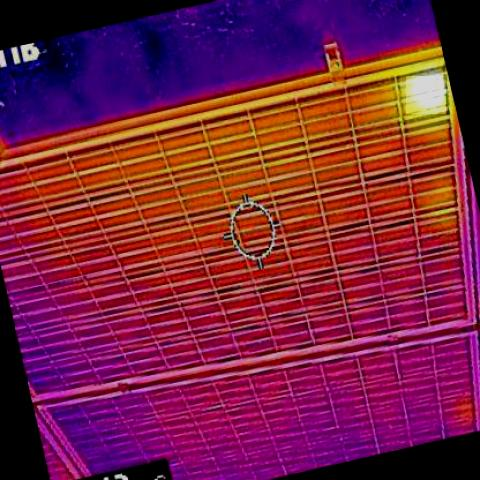fault: (406, 76, 446, 114)
